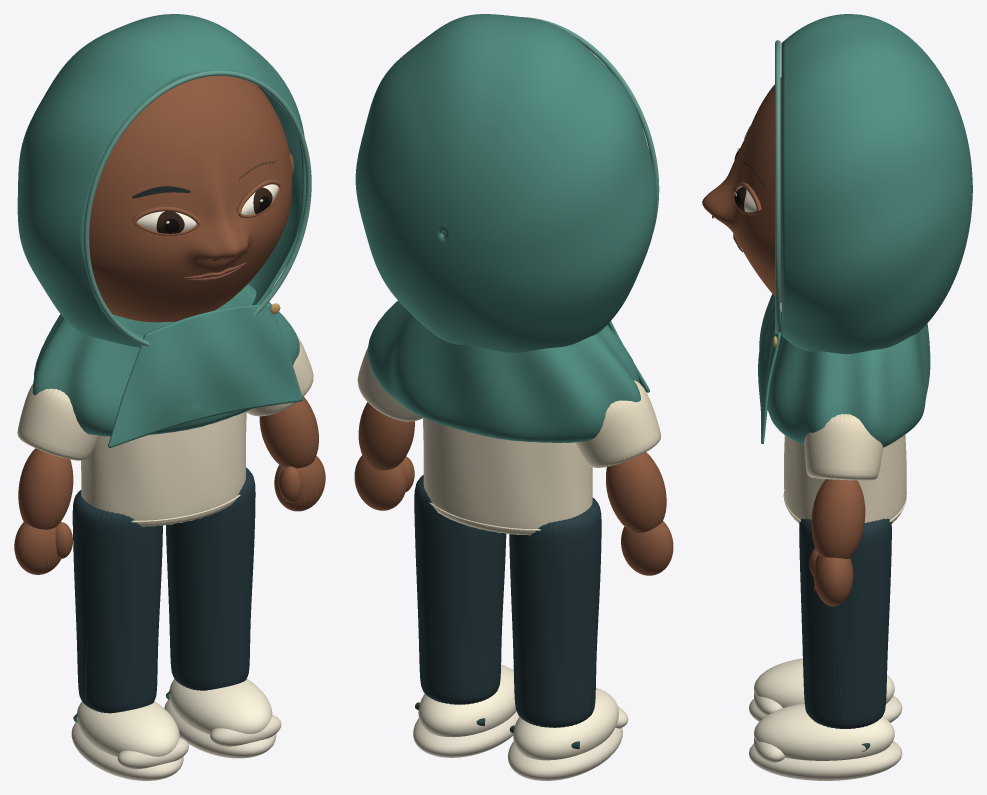
Rendered from female-tudung-short.glb.
The picture shows the model from 3 angles, left to right: view 1: azimuth 30°, elevation 25°; view 2: azimuth 150°, elevation 25°; view 3: azimuth 270°, elevation 25°; orthographic projection. The views are drawn at different scales.
Parts seen in each view (by area): view 1: Face | continuous sculpt with nose cheeks and jaw.002, Hijab | fitted face opening and hood, Hijab | softly folded front panel, Trousers | tapered leg.004, Trousers | tapered leg.005, Cotton tee | tailored body.002, Hijab | shoulder drape, Sneaker | canvas upper.004, Sneaker | canvas upper.005, Hijab | stitched opening, Tee | tailored short sleeve.004, Arm | forearm.004 (+9 smaller); view 2: Hijab | fitted face opening and hood, Hijab | shoulder drape, Trousers | tapered leg.004, Trousers | tapered leg.005, Cotton tee | tailored body.002, Tee | tailored short sleeve.004, Arm | forearm.004, Sneaker | canvas upper.004, Sneaker | canvas upper.005, Arm | forearm.005, Sneaker | rubber sole.004, Sneaker | rubber sole.005 (+4 smaller); view 3: Hijab | fitted face opening and hood, Trousers | tapered leg.005, Hijab | shoulder drape, Face | continuous sculpt with nose cheeks and jaw.002, Sneaker | canvas upper.005, Cotton tee | tailored body.002, Tee | tailored short sleeve.005, Arm | forearm.005, Sneaker | rubber sole.005, Sneaker | canvas upper.004, Hijab | stitched opening, Hijab | softly folded front panel (+2 smaller).
Boxes of the visible parts, <box> form: Face | continuous sculpt with nose cheeks and jaw.002: <box>89,76,292,322</box>; Hijab | fitted face opening and hood: <box>17,14,306,347</box>; Hijab | softly folded front panel: <box>108,304,302,447</box>; Trousers | tapered leg.004: <box>72,490,162,713</box>; Trousers | tapered leg.005: <box>166,467,255,690</box>; Cotton tee | tailored body.002: <box>81,411,246,526</box>; Hijab | shoulder drape: <box>32,283,299,436</box>; Sneaker | canvas upper.004: <box>77,701,179,756</box>; Sneaker | canvas upper.005: <box>169,678,272,734</box>; Hijab | stitched opening: <box>83,70,311,346</box>; Tee | tailored short sleeve.004: <box>17,384,99,460</box>; Arm | forearm.004: <box>18,448,73,529</box>; Hijab | fitted face opening and hood: <box>355,14,656,352</box>; Hijab | shoulder drape: <box>367,301,640,442</box>; Trousers | tapered leg.004: <box>509,497,601,727</box>; Trousers | tapered leg.005: <box>414,475,506,704</box>; Cotton tee | tailored body.002: <box>423,417,592,535</box>; Tee | tailored short sleeve.004: <box>575,380,660,467</box>; Arm | forearm.004: <box>606,452,666,532</box>; Sneaker | canvas upper.004: <box>513,688,618,760</box>; Sneaker | canvas upper.005: <box>418,664,516,737</box>; Arm | forearm.005: <box>358,402,414,470</box>; Sneaker | rubber sole.004: <box>508,727,622,780</box>; Sneaker | rubber sole.005: <box>413,711,519,757</box>; Hijab | fitted face opening and hood: <box>781,14,972,354</box>; Trousers | tapered leg.005: <box>799,518,891,728</box>; Hijab | shoulder drape: <box>767,312,930,447</box>; Face | continuous sculpt with nose cheeks and jaw.002: <box>702,77,781,302</box>; Sneaker | canvas upper.005: <box>754,703,894,760</box>; Cotton tee | tailored body.002: <box>784,435,906,523</box>; Tee | tailored short sleeve.005: <box>804,414,882,480</box>; Arm | forearm.005: <box>811,479,865,558</box>; Sneaker | rubber sole.005: <box>749,741,902,780</box>; Sneaker | canvas upper.004: <box>754,658,894,707</box>; Hijab | stitched opening: <box>775,40,780,334</box>; Hijab | softly folded front panel: <box>758,294,780,443</box>.
Bounding box in the file's own units: 1.13 × 2.52 × 0.8604.
